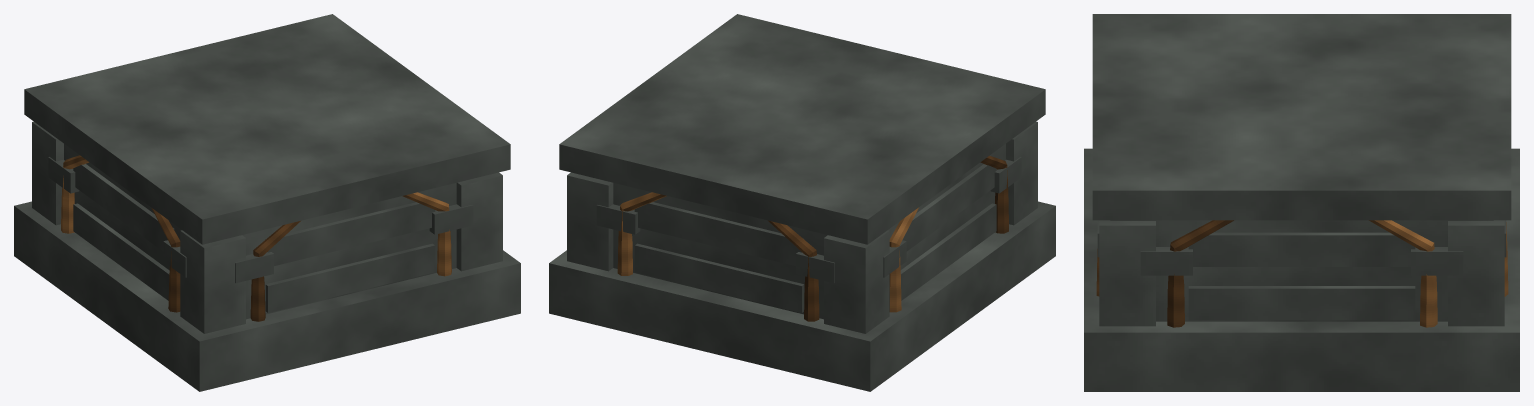
File: rootforged-understone-foundation-2x2.glb
The picture shows the model from 3 angles, left to right: view 1: azimuth 30°, elevation 25°; view 2: azimuth 150°, elevation 25°; view 3: azimuth 270°, elevation 25°; orthographic projection. The views are drawn at different scales.
Visible parts, largest first — view 1: upper-seat, lower-plinth, recessed-core, corner-buttress--1--1, front-relief--1-0, front-relief--1-1, corner-buttress-1--1, side-relief--1-0, side-relief--1-1, corner-buttress--1-1, front-root-inlay--1--1, front-root-inlay--1-1 (+6 smaller); view 2: upper-seat, lower-plinth, recessed-core, corner-buttress--1-1, front-relief-1-0, front-relief-1-1, corner-buttress-1-1, side-relief--1-0, side-relief--1-1, corner-buttress--1--1, front-root-inlay-1--1, front-root-inlay-1-1 (+6 smaller); view 3: upper-seat, lower-plinth, recessed-core, side-relief-1-0, side-relief-1-1, corner-buttress-1--1, corner-buttress-1-1, side-root-inlay-1-1, side-root-inlay-1--1, carved-side-boss-1--1, carved-side-boss-1-1.
Boxes of the visible parts, left/top/right/bottom form: upper-seat: left=24, top=14, right=510, bottom=244; lower-plinth: left=14, top=201, right=520, bottom=391; recessed-core: left=64, top=144, right=456, bottom=319; corner-buttress--1--1: left=180, top=230, right=245, bottom=333; front-relief--1-0: left=265, top=243, right=435, bottom=312; front-relief--1-1: left=265, top=202, right=435, bottom=265; corner-buttress-1--1: left=456, top=172, right=502, bottom=271; side-relief--1-0: left=73, top=203, right=169, bottom=300; side-relief--1-1: left=73, top=164, right=174, bottom=251; corner-buttress--1-1: left=32, top=121, right=63, bottom=225; front-root-inlay--1--1: left=250, top=221, right=300, bottom=321; front-root-inlay--1-1: left=402, top=192, right=451, bottom=276; upper-seat: left=559, top=14, right=1045, bottom=244; lower-plinth: left=549, top=201, right=1055, bottom=391; recessed-core: left=613, top=144, right=1005, bottom=319; corner-buttress--1-1: left=824, top=230, right=889, bottom=333; front-relief-1-0: left=634, top=243, right=804, bottom=312; front-relief-1-1: left=634, top=202, right=804, bottom=265; corner-buttress-1-1: left=567, top=172, right=613, bottom=271; side-relief--1-0: left=900, top=203, right=996, bottom=300; side-relief--1-1: left=902, top=164, right=996, bottom=251; corner-buttress--1--1: left=1006, top=121, right=1037, bottom=225; front-root-inlay-1--1: left=768, top=220, right=819, bottom=321; front-root-inlay-1-1: left=617, top=192, right=666, bottom=275; upper-seat: left=1092, top=14, right=1511, bottom=220; lower-plinth: left=1084, top=148, right=1519, bottom=391; recessed-core: left=1110, top=220, right=1493, bottom=321; side-relief-1-0: left=1188, top=286, right=1415, bottom=320; side-relief-1-1: left=1188, top=232, right=1415, bottom=266; corner-buttress-1--1: left=1099, top=220, right=1155, bottom=326; corner-buttress-1-1: left=1448, top=220, right=1504, bottom=326; side-root-inlay-1-1: left=1369, top=220, right=1437, bottom=327; side-root-inlay-1--1: left=1167, top=220, right=1233, bottom=327; carved-side-boss-1--1: left=1140, top=247, right=1192, bottom=275; carved-side-boss-1-1: left=1411, top=247, right=1463, bottom=275.
Size of the model in its own units: 2 by 1 by 2.
3 materials, 3 textured.
